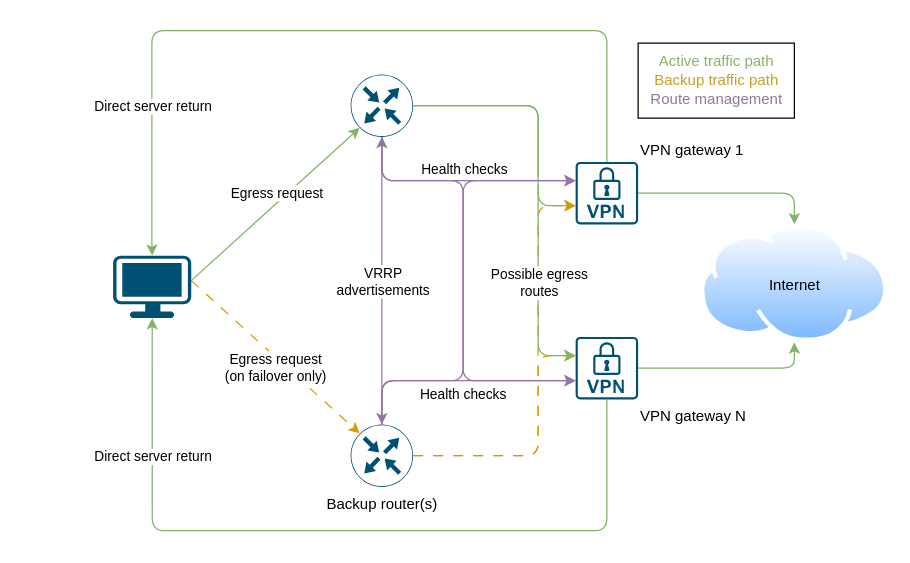
This 910x563 diagram has some shape labels left out. The shapes that lost their labels are listed below. From the top down, each one's centre as x and y in pixels, then its label:
At [381,105]: "Active router".
At [151,286]: "Client pod(s)".
